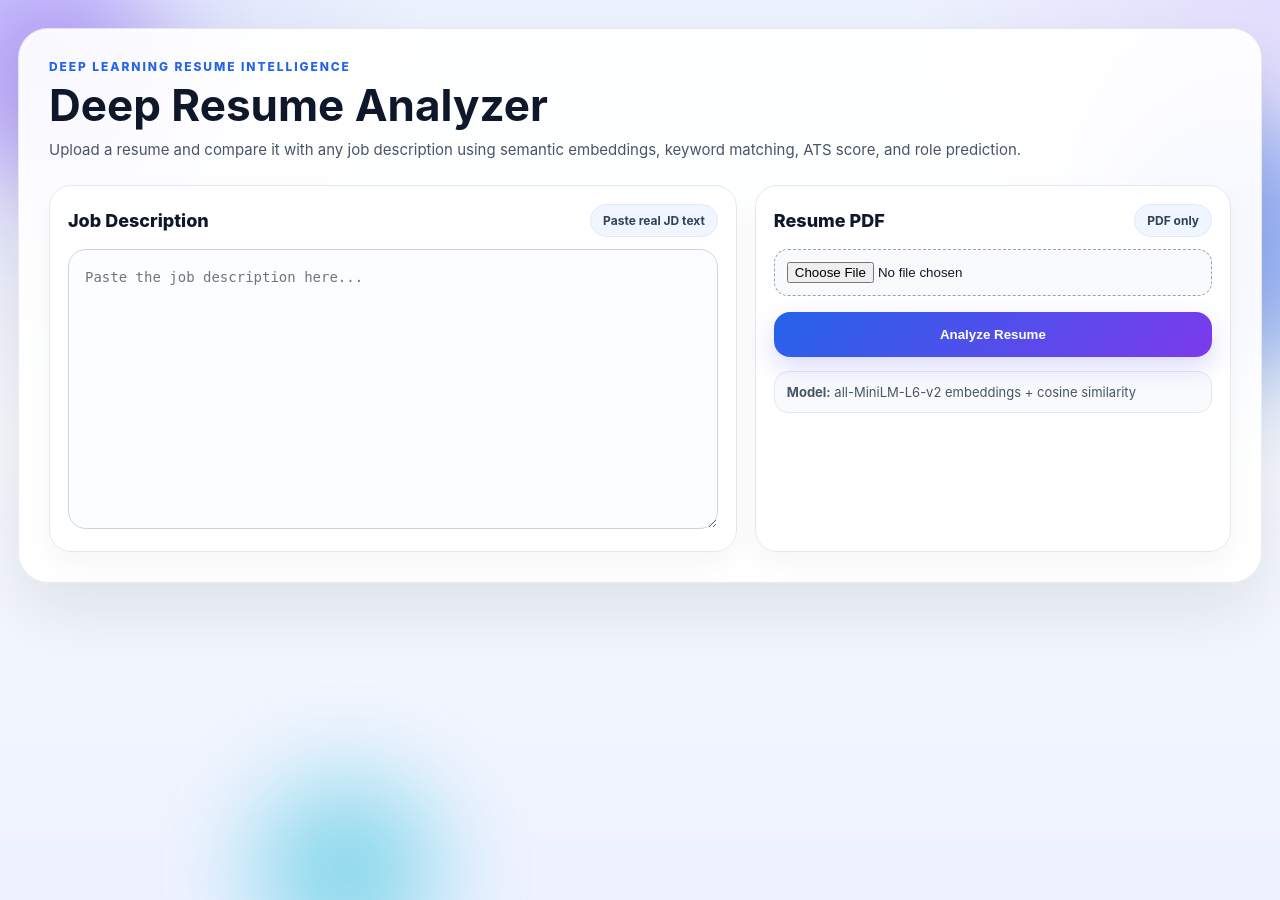
Test case: requires a job description before submitting a valid PDF
Earlier steps of the test are not shown.
Click the button "Analyze Resume".
click(993, 335)  # box x1=774 y1=312 x2=1212 y2=357
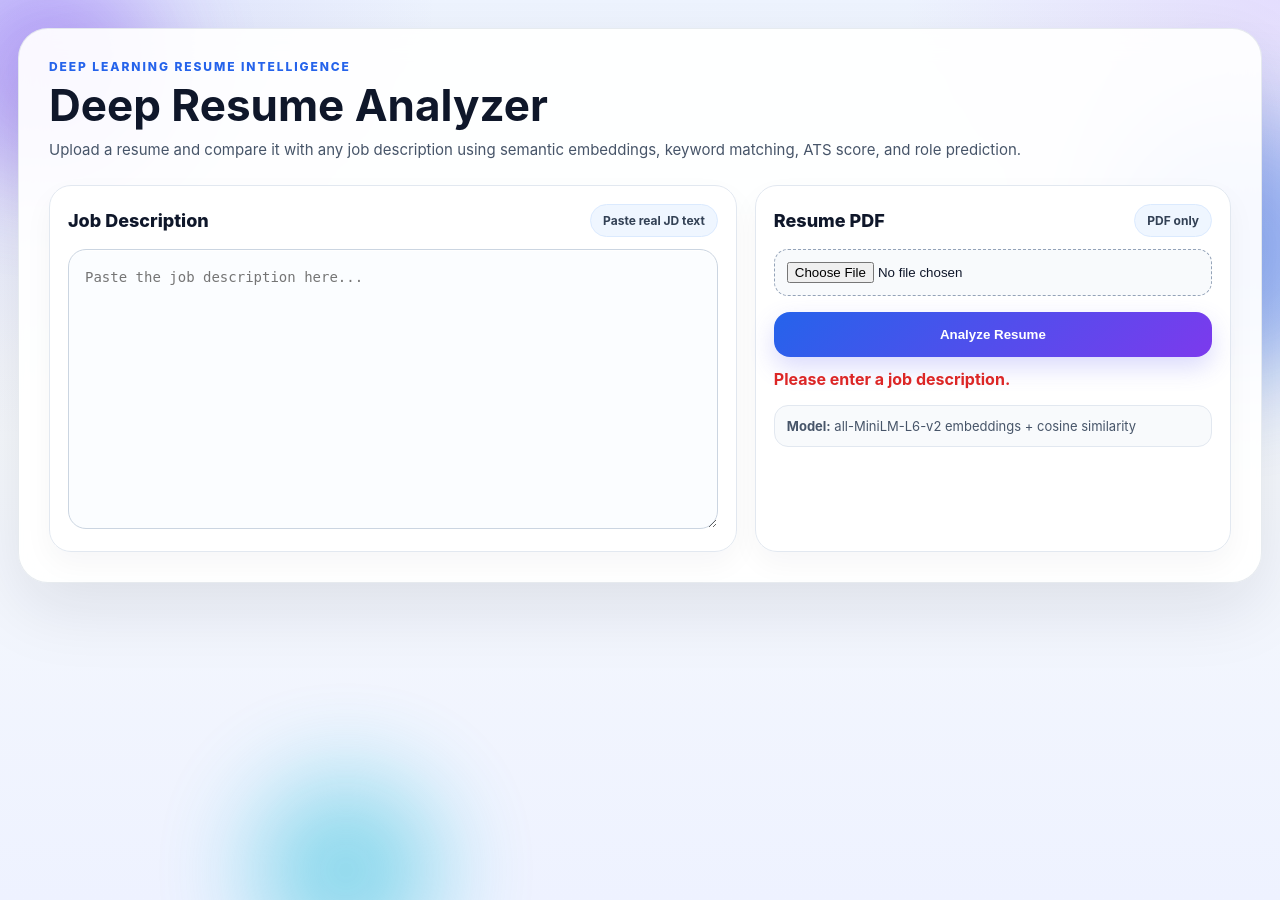
Now the message reads "Please enter a job description.", box x1=774 y1=369 x2=1010 y2=389
